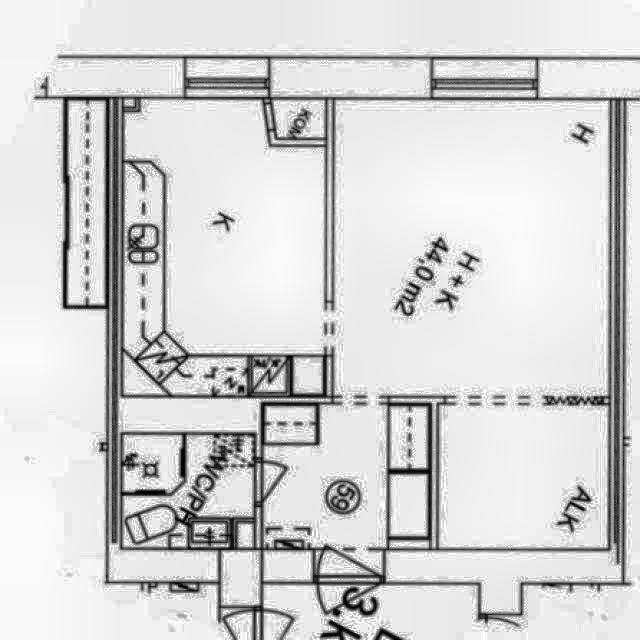room: (333, 99, 610, 396), (123, 99, 326, 395), (439, 404, 608, 549), (123, 435, 254, 547)
